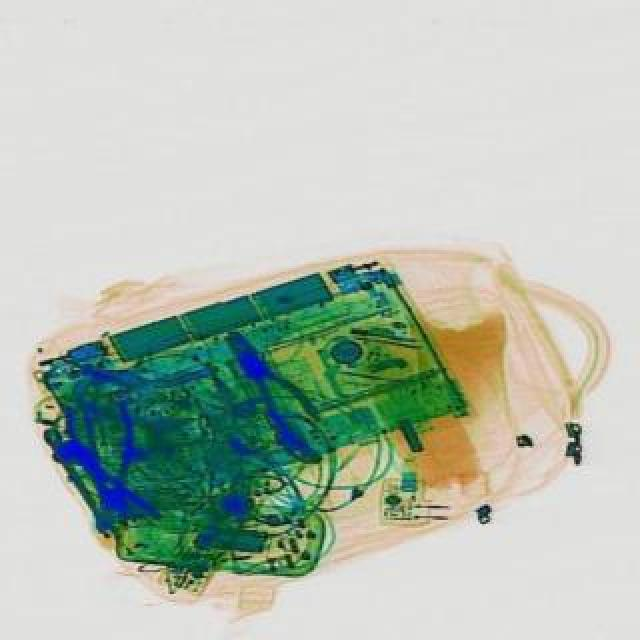scissors: (36, 422, 118, 538)
wrench: (206, 318, 342, 466), (78, 400, 138, 528)
